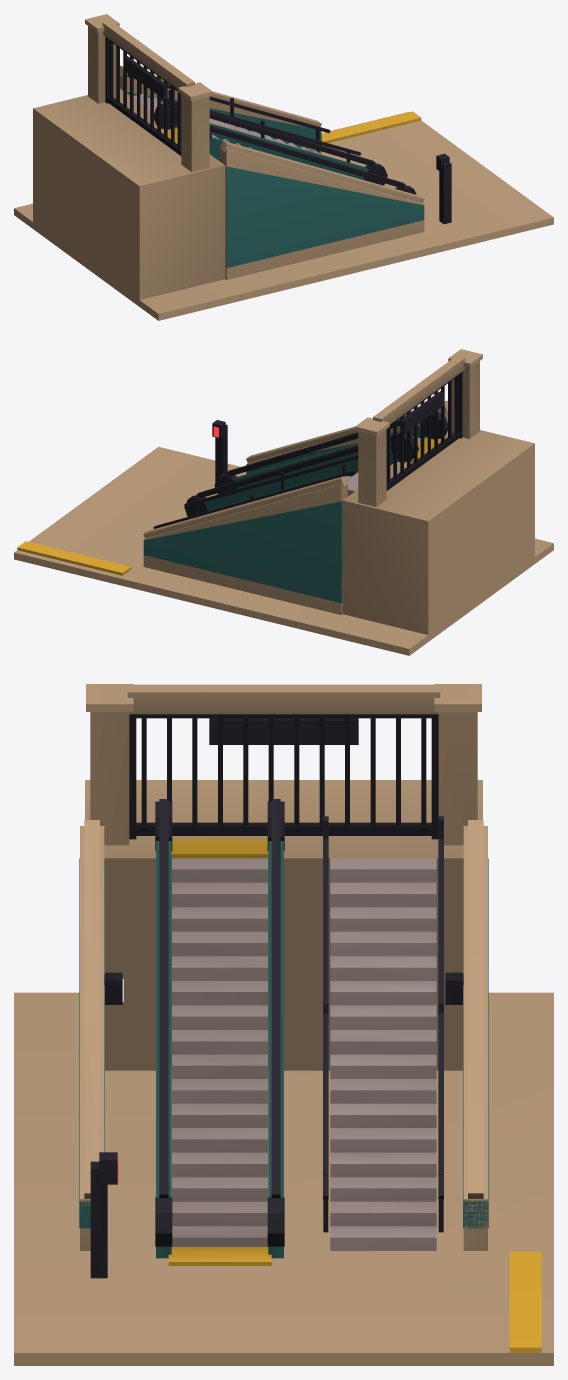
File: int.metro-exit.lod2.glb
3 renders of one model, top to bottom at view 1: azimuth 30°, elevation 25°; view 2: azimuth 150°, elevation 25°; view 3: azimuth 270°, elevation 25°, orthographic. The views are drawn at different scales.
Visible parts, largest first — view 1: body, exitGate; view 2: body, exitGate; view 3: body, exitGate.
Part boxes in pixels (x1,y1,x2,y2): body: [14, 14, 553, 320]; exitGate: [105, 36, 181, 155]; body: [14, 349, 553, 655]; exitGate: [386, 371, 462, 490]; body: [14, 684, 553, 1365]; exitGate: [129, 714, 438, 839].
Size of the model in its own units: 12 by 5.81 by 7.6.
